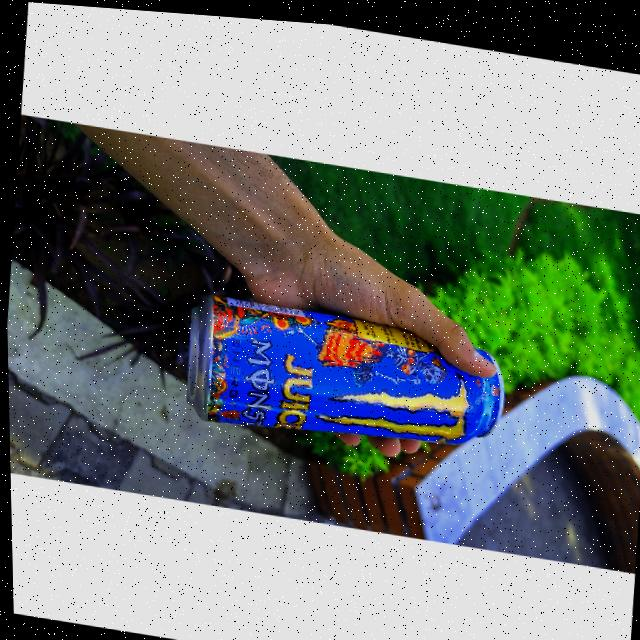Monster Mango Loco: (184, 286, 508, 470)
